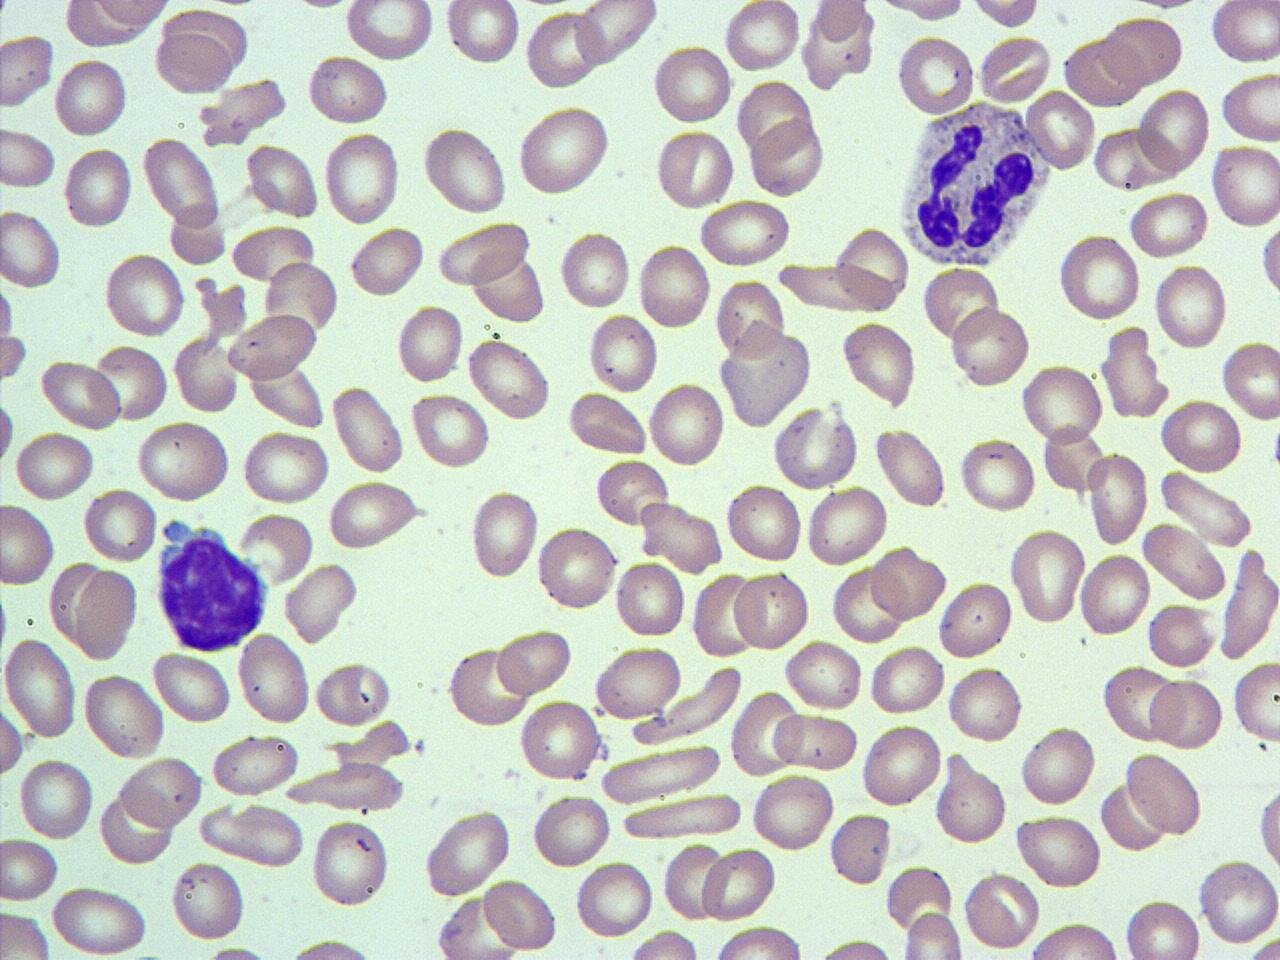Platelets: (1267, 427, 1280, 468)
RBC: (717, 321, 813, 430), (631, 660, 747, 748), (515, 102, 615, 198), (134, 418, 234, 504), (2, 635, 80, 742), (423, 806, 512, 898), (1008, 526, 1088, 628), (1056, 230, 1142, 324), (598, 742, 724, 806), (421, 125, 510, 215), (1158, 467, 1258, 546), (464, 335, 554, 422), (308, 816, 391, 910), (322, 128, 401, 226), (81, 670, 167, 760), (536, 522, 620, 612), (104, 249, 187, 340), (1198, 854, 1280, 946), (770, 405, 858, 490), (1141, 519, 1229, 604), (142, 135, 223, 227), (236, 628, 312, 726), (1219, 542, 1279, 666), (50, 883, 150, 957), (198, 801, 308, 868), (592, 642, 684, 722), (646, 378, 726, 470), (239, 428, 333, 506), (860, 722, 943, 810), (1014, 810, 1103, 892), (932, 751, 1008, 847), (804, 483, 890, 567), (949, 303, 1032, 390), (651, 41, 734, 128), (833, 224, 912, 315), (839, 318, 918, 409), (1151, 260, 1229, 352), (1022, 361, 1107, 445), (446, 642, 529, 728), (636, 241, 714, 332), (519, 698, 601, 784), (944, 660, 1026, 746), (732, 565, 812, 653), (326, 480, 426, 550), (1135, 84, 1211, 176), (330, 383, 406, 474), (433, 219, 533, 288), (574, 857, 656, 941), (1078, 548, 1152, 640), (654, 127, 736, 210), (1160, 395, 1244, 476), (51, 54, 130, 140), (17, 755, 95, 842), (468, 486, 540, 580), (922, 262, 1004, 344), (736, 75, 817, 158), (524, 7, 605, 90), (1019, 724, 1099, 808), (724, 482, 804, 566), (283, 560, 362, 645), (170, 858, 248, 944), (752, 771, 834, 852), (896, 33, 976, 116), (937, 577, 1014, 663), (226, 312, 320, 382), (962, 870, 1042, 952), (530, 790, 612, 870), (409, 390, 492, 469), (640, 498, 724, 576), (730, 687, 802, 778), (92, 340, 170, 424), (782, 636, 866, 714), (1124, 752, 1202, 836), (118, 754, 204, 830), (696, 198, 792, 266), (958, 435, 1038, 516), (1101, 664, 1181, 744), (1086, 448, 1150, 548), (40, 356, 123, 433), (1024, 86, 1098, 172), (828, 564, 908, 643), (749, 117, 827, 198), (244, 139, 322, 220), (13, 427, 96, 503), (73, 565, 138, 662), (690, 570, 760, 660), (306, 52, 390, 127), (714, 276, 788, 361), (873, 424, 947, 509), (150, 650, 234, 724), (614, 557, 688, 641), (700, 844, 778, 923), (481, 874, 559, 953), (1210, 142, 1280, 230), (62, 144, 134, 229), (237, 509, 316, 586), (209, 732, 301, 798), (586, 311, 658, 395), (348, 223, 427, 299), (558, 229, 632, 310), (1103, 13, 1185, 86), (617, 794, 741, 842), (1149, 675, 1225, 752), (870, 544, 945, 622), (83, 486, 158, 564), (343, 0, 437, 62), (867, 642, 945, 716), (1092, 122, 1172, 194), (246, 360, 328, 430), (312, 658, 394, 728), (1128, 190, 1210, 260), (396, 302, 464, 386), (153, 28, 236, 96), (592, 457, 670, 529), (721, 2, 802, 71), (494, 626, 572, 697), (659, 841, 727, 922), (567, 389, 650, 455), (977, 32, 1053, 104), (229, 222, 317, 284), (173, 334, 240, 415), (444, 0, 522, 69), (471, 255, 548, 324), (576, 0, 660, 63), (0, 206, 63, 290), (770, 710, 858, 770), (1122, 896, 1204, 960), (0, 501, 59, 588), (1220, 337, 1280, 422), (1146, 600, 1218, 670), (828, 810, 892, 887), (1208, 0, 1280, 67), (1220, 68, 1280, 145), (1, 31, 57, 110), (1232, 659, 1280, 749), (167, 200, 228, 266), (0, 122, 59, 190), (1024, 921, 1124, 960), (1, 836, 60, 902), (710, 924, 808, 960), (901, 910, 964, 959), (0, 907, 53, 959), (624, 926, 704, 960), (275, 936, 388, 960), (1255, 772, 1279, 880), (814, 0, 870, 46), (92, 0, 175, 29), (968, 0, 1043, 29), (1257, 216, 1280, 304)
WBC: (893, 97, 1055, 271), (151, 516, 273, 652)
